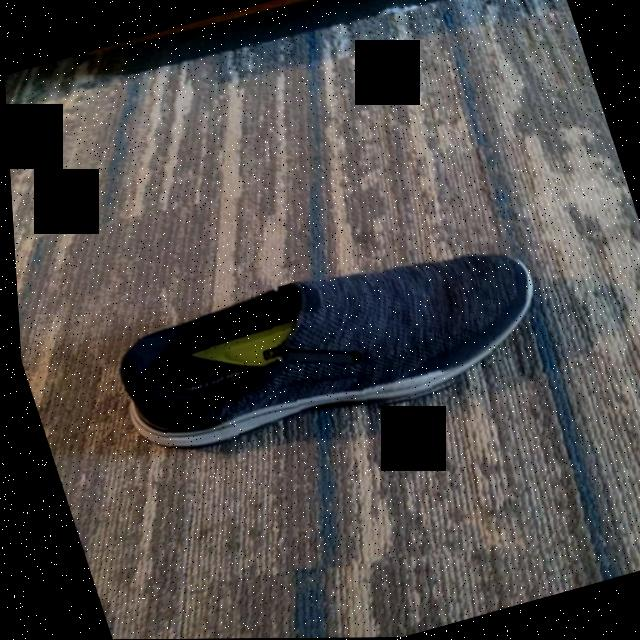shoe: (90, 221, 561, 476)
